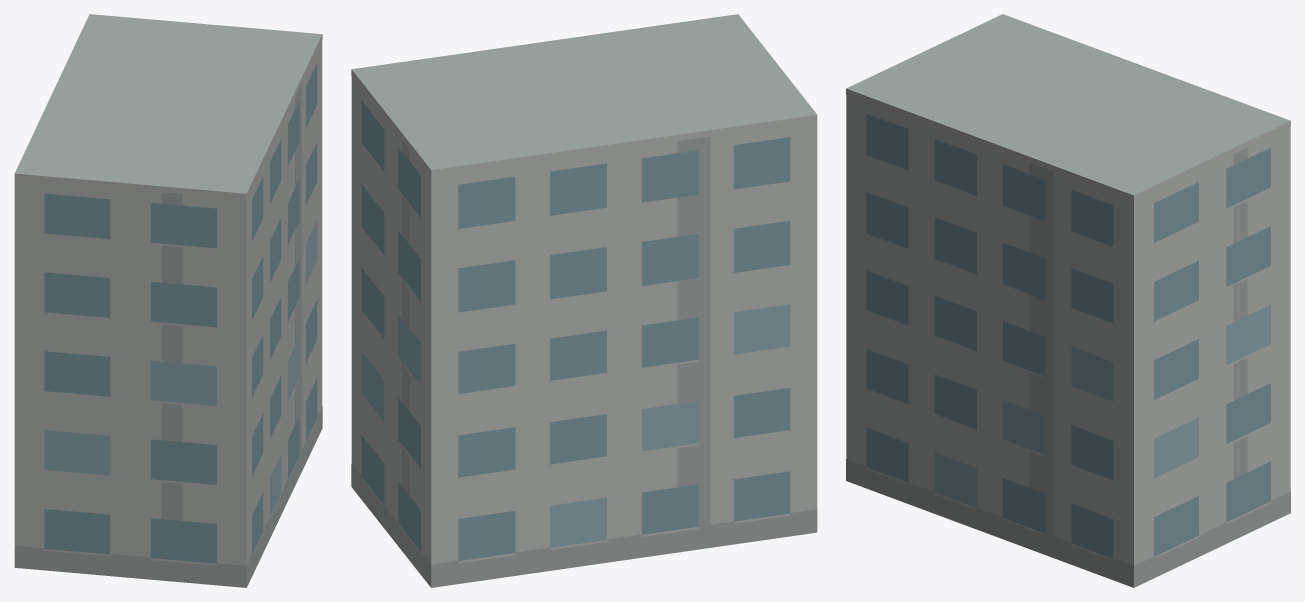
File: survey-upis-32892671.glb
3 renders of one model, left to right at view 1: azimuth 30°, elevation 25°; view 2: azimuth 150°, elevation 25°; view 3: azimuth 270°, elevation 25°, orthographic. The views are drawn at different scales.
Parts seen in each view (by area): view 1: survey-upis-32892671.tmp; view 2: survey-upis-32892671.tmp; view 3: survey-upis-32892671.tmp.
Boxes of the visible parts, x1,y1,x2,y2 form: survey-upis-32892671.tmp: (14,14,322,587); survey-upis-32892671.tmp: (351,14,817,587); survey-upis-32892671.tmp: (846,14,1290,587).
Size of the model in its own units: 15.68 by 15.8 by 16.24.
